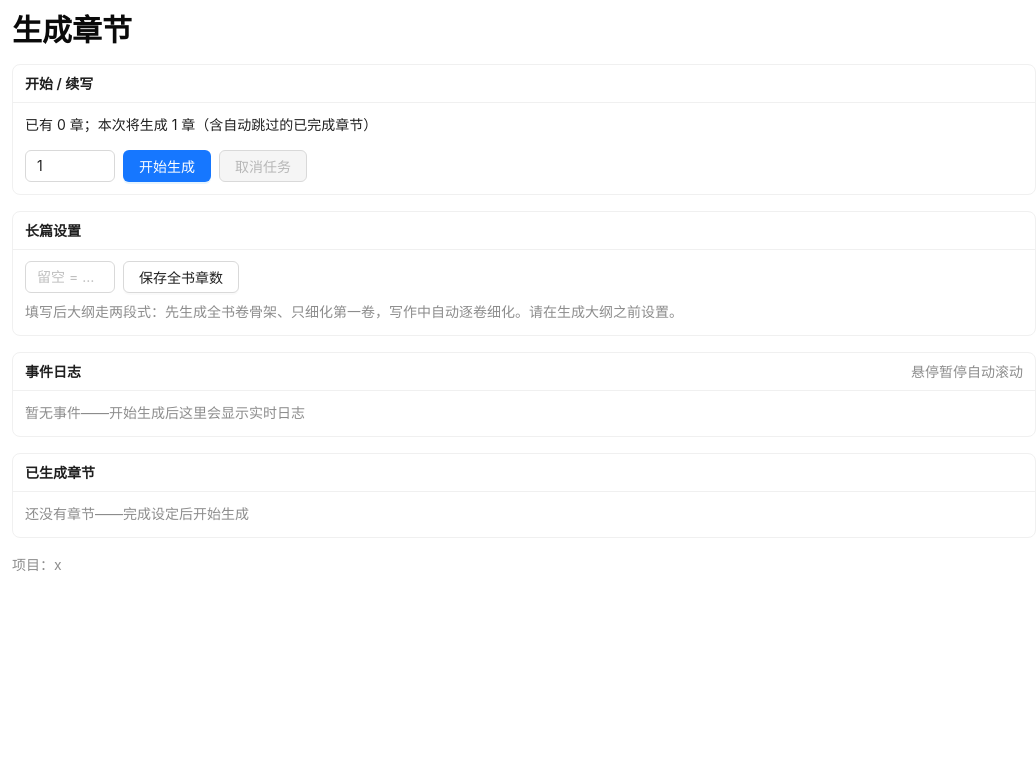
Generate: start posts {n}; progress counts chapter_done AND chapter_skipped (N4)
Replace the text in the number field with test id "n-input" with "3" at (70, 166), box [26,151,114,181]
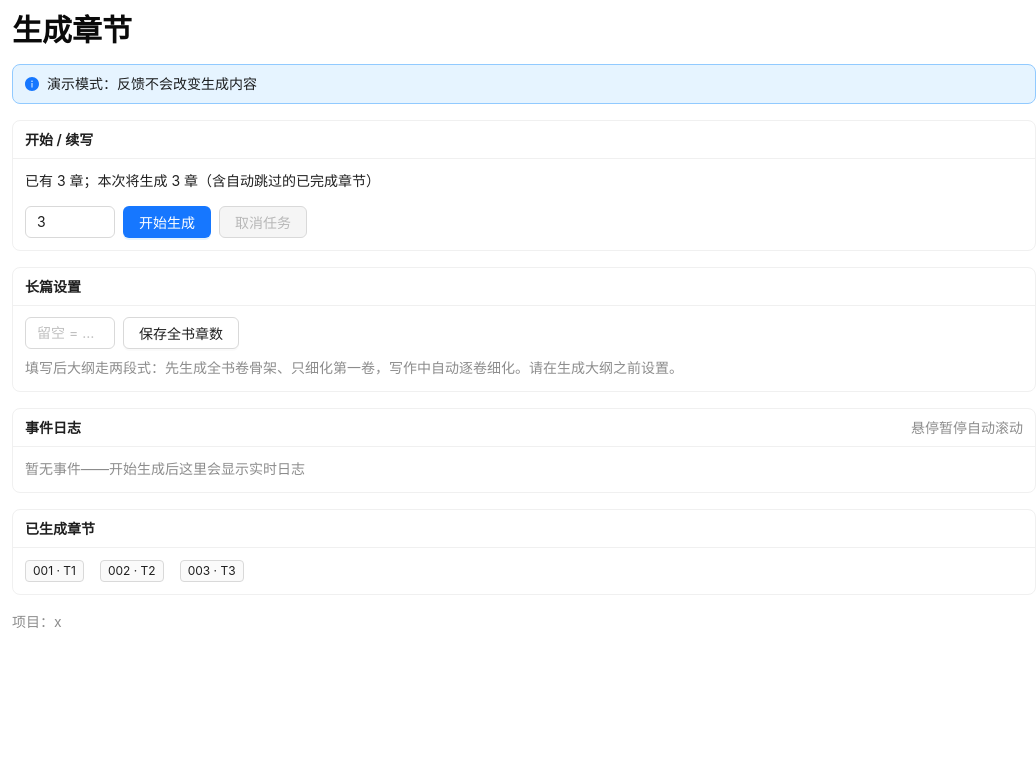
Click the button with test id "start-generate" at (167, 222), box [123,206,211,238]
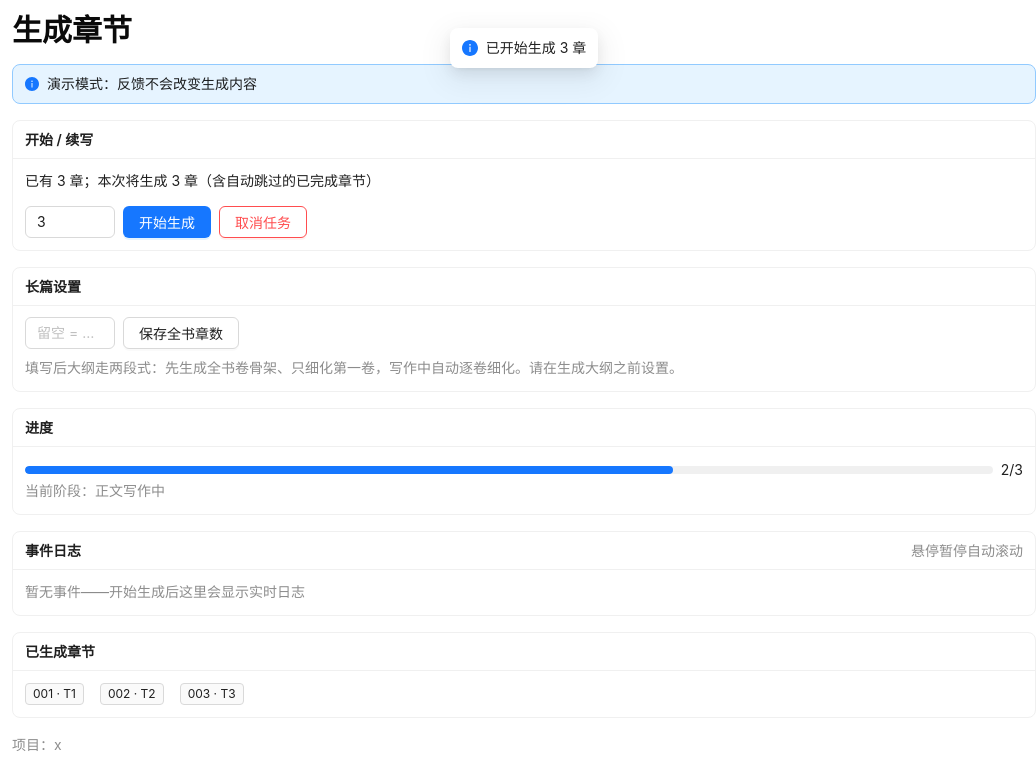
expect the text "2/3" is shown: met, box [1001,463,1023,477]
expect the text "当前阶段：正文写作中" is shown: met, box [25,482,165,499]
